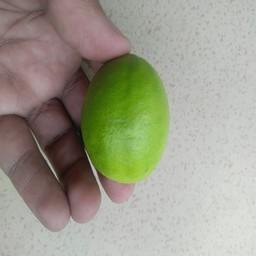Good_lime: (80, 53, 172, 186)
